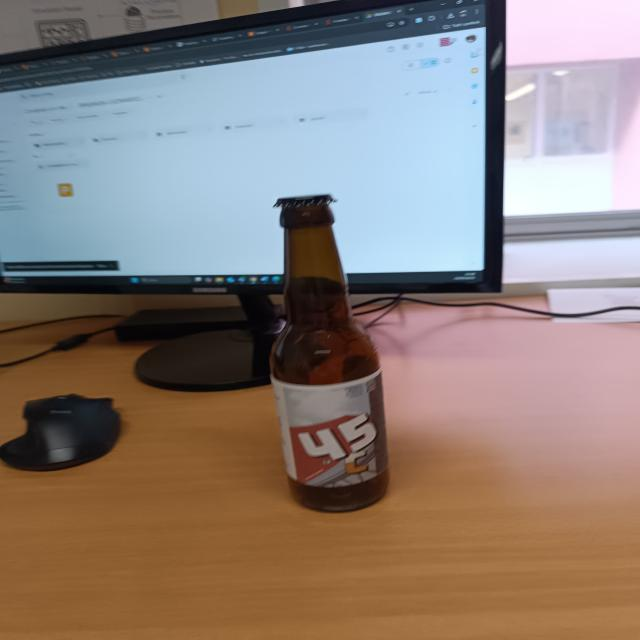Bottle: (269, 194, 392, 511)
Cap: (266, 194, 338, 208)
Label: (276, 380, 389, 483)
